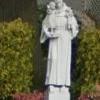Statue: (32, 4, 88, 100)
